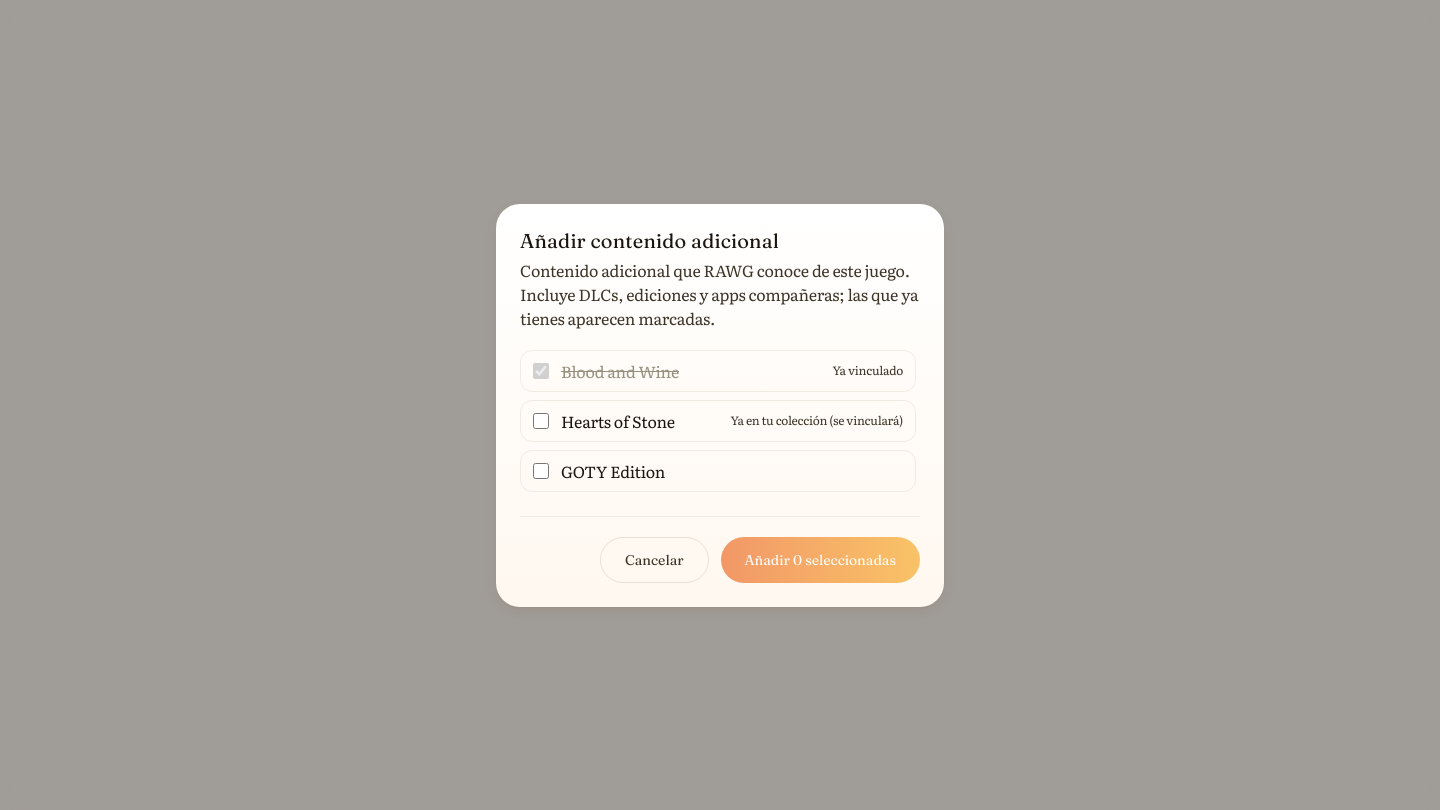
AddGameDlcsDialog › en completado exige la fecha de fin
Click the checkbox labelled "GOTY Edition" at (541, 470), box x1=533 y1=462 x2=549 y2=478
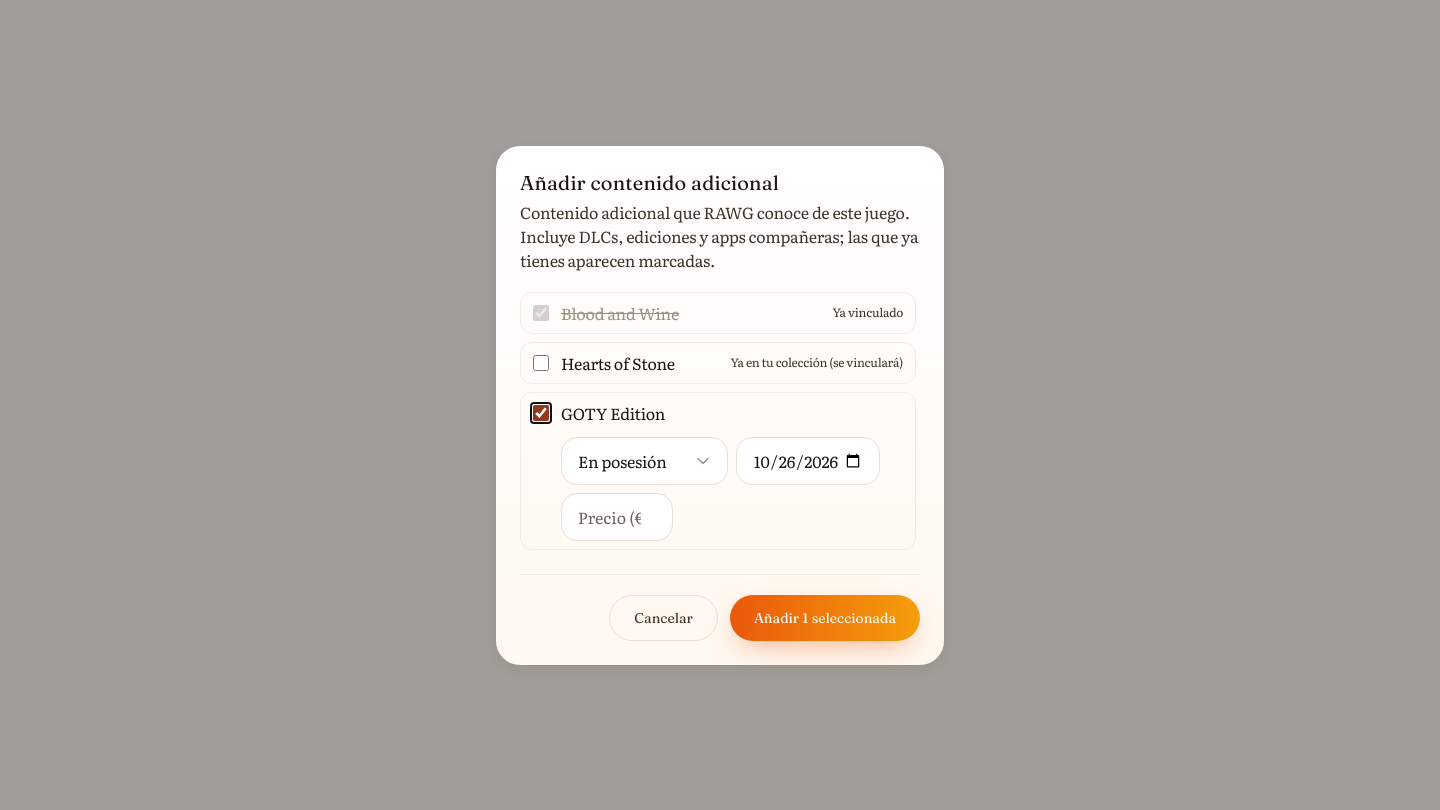
Select "Completado" in the dropdown named "Estado de GOTY Edition" at (644, 460), box x1=561 y1=436 x2=728 y2=484
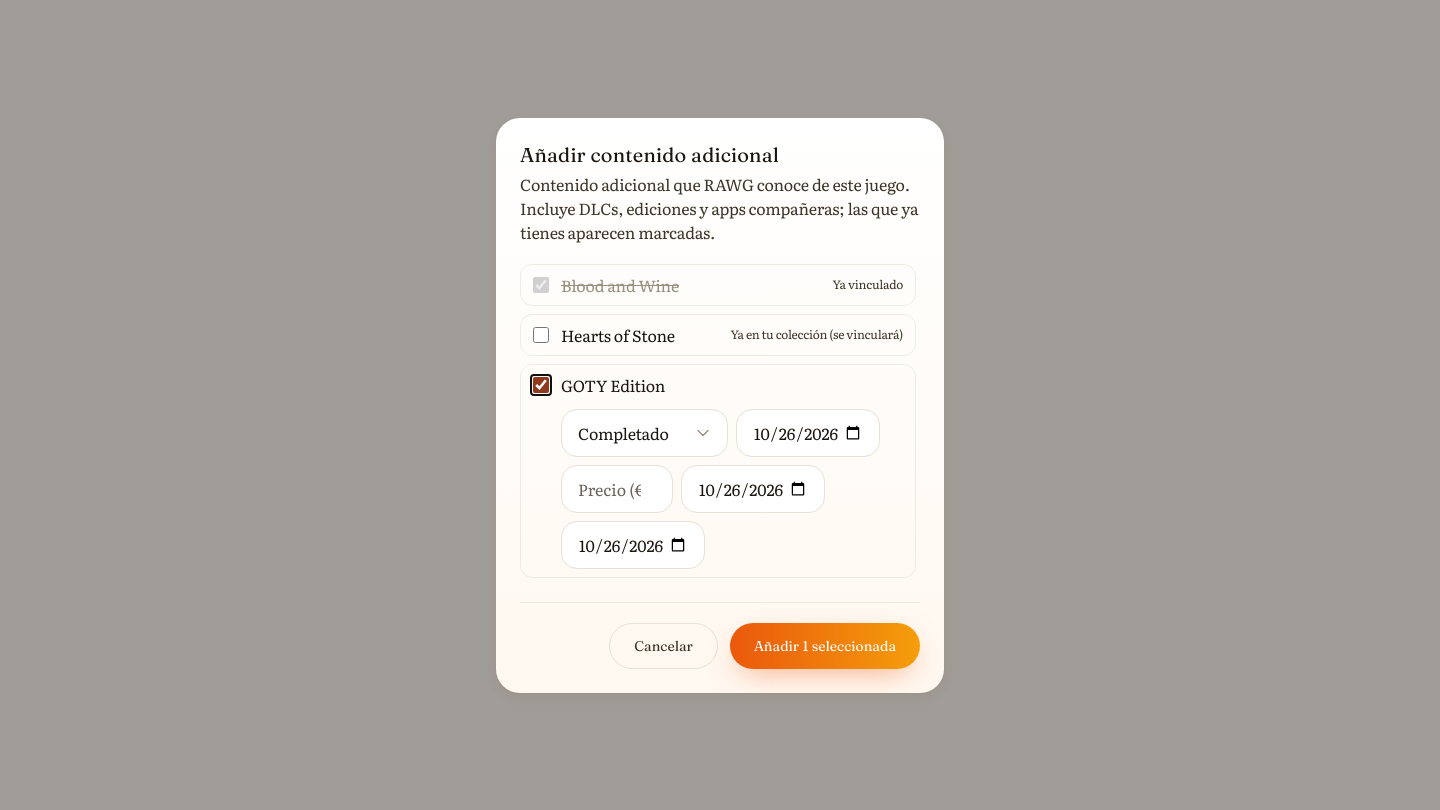
Type "10" into the number field named "Precio de GOTY Edition" at (617, 488), box x1=561 y1=464 x2=673 y2=512
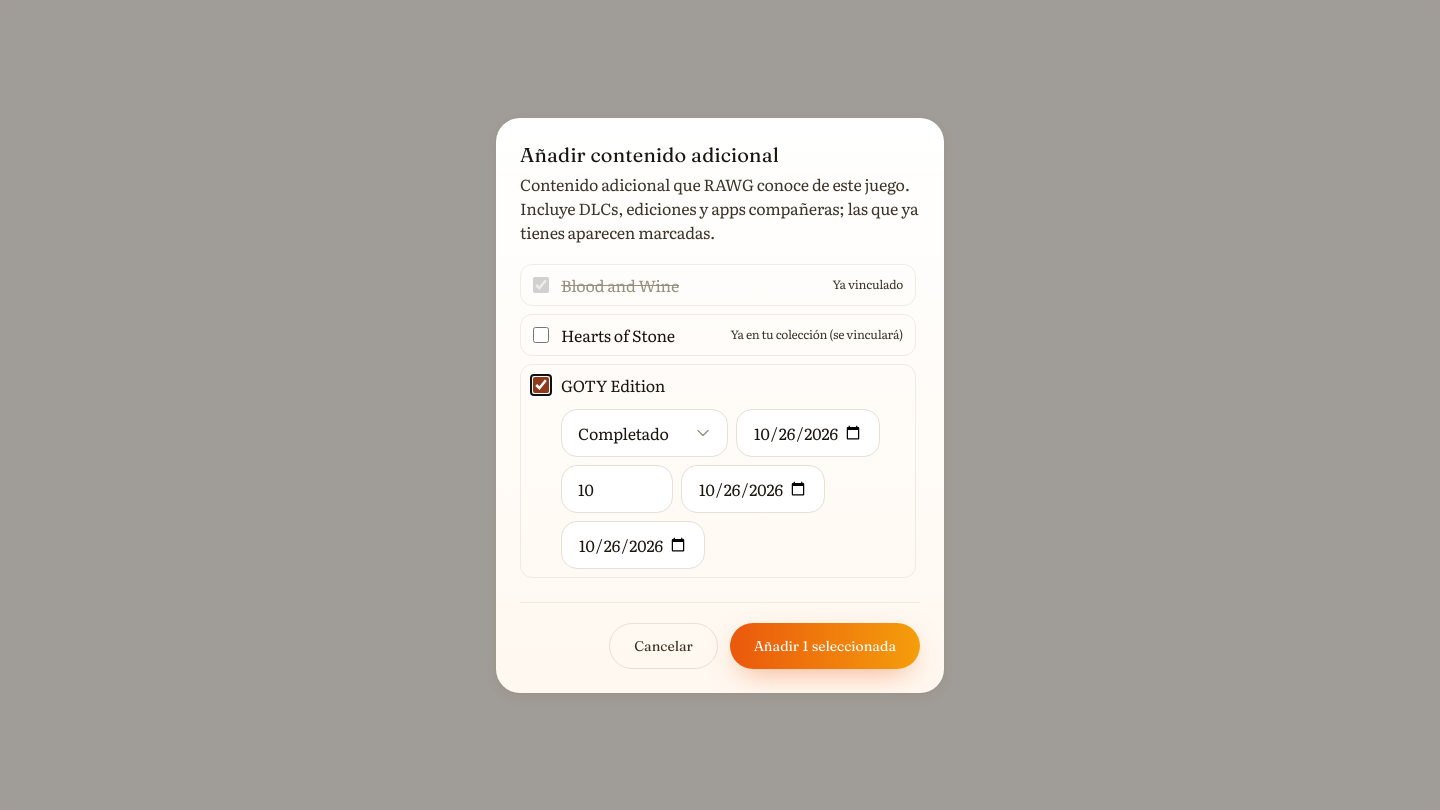
Clear the date field named "Fecha de fin de GOTY Edition" at (633, 544), box x1=561 y1=520 x2=705 y2=568
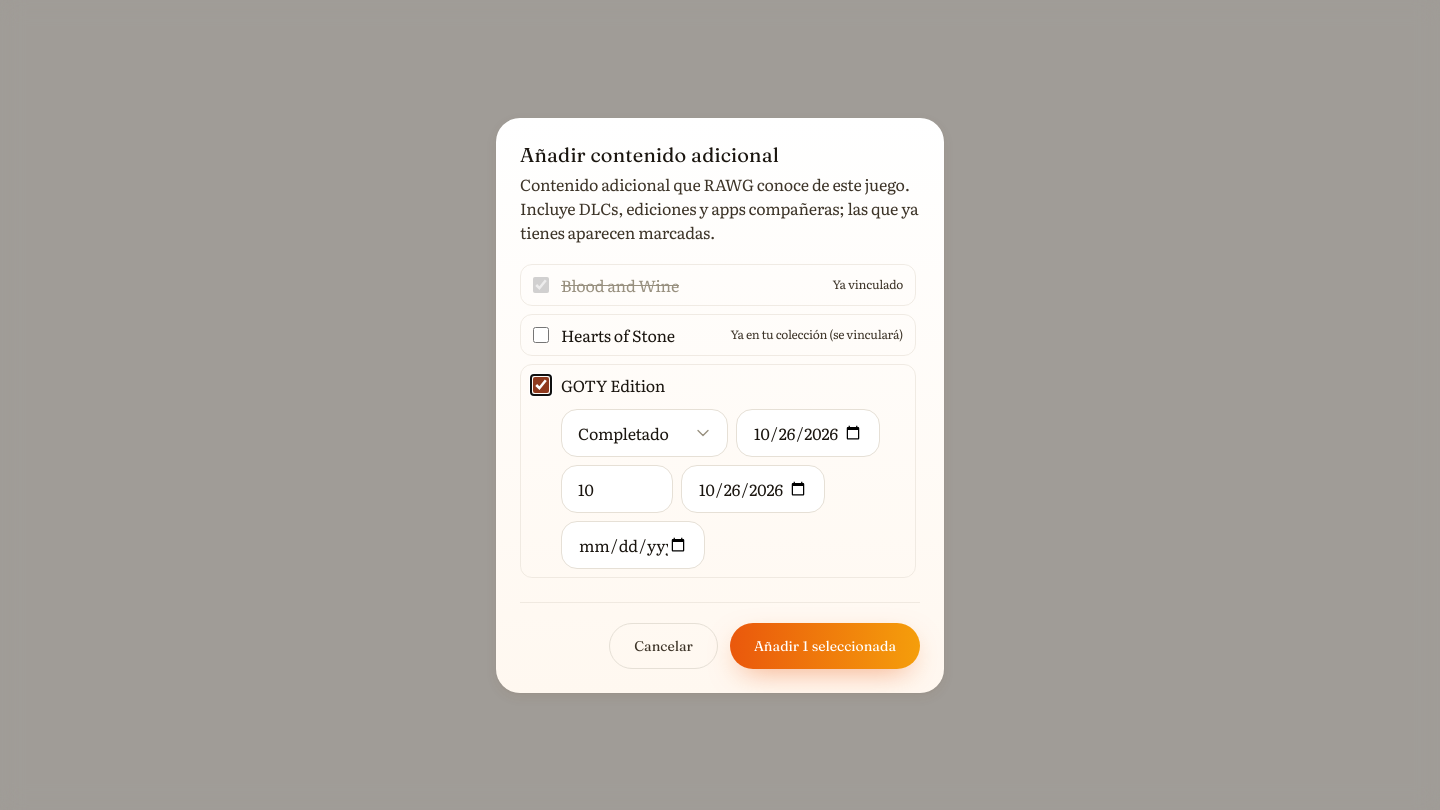
Click the button "Añadir 1 seleccionada" at (825, 646), box x1=730 y1=622 x2=920 y2=668
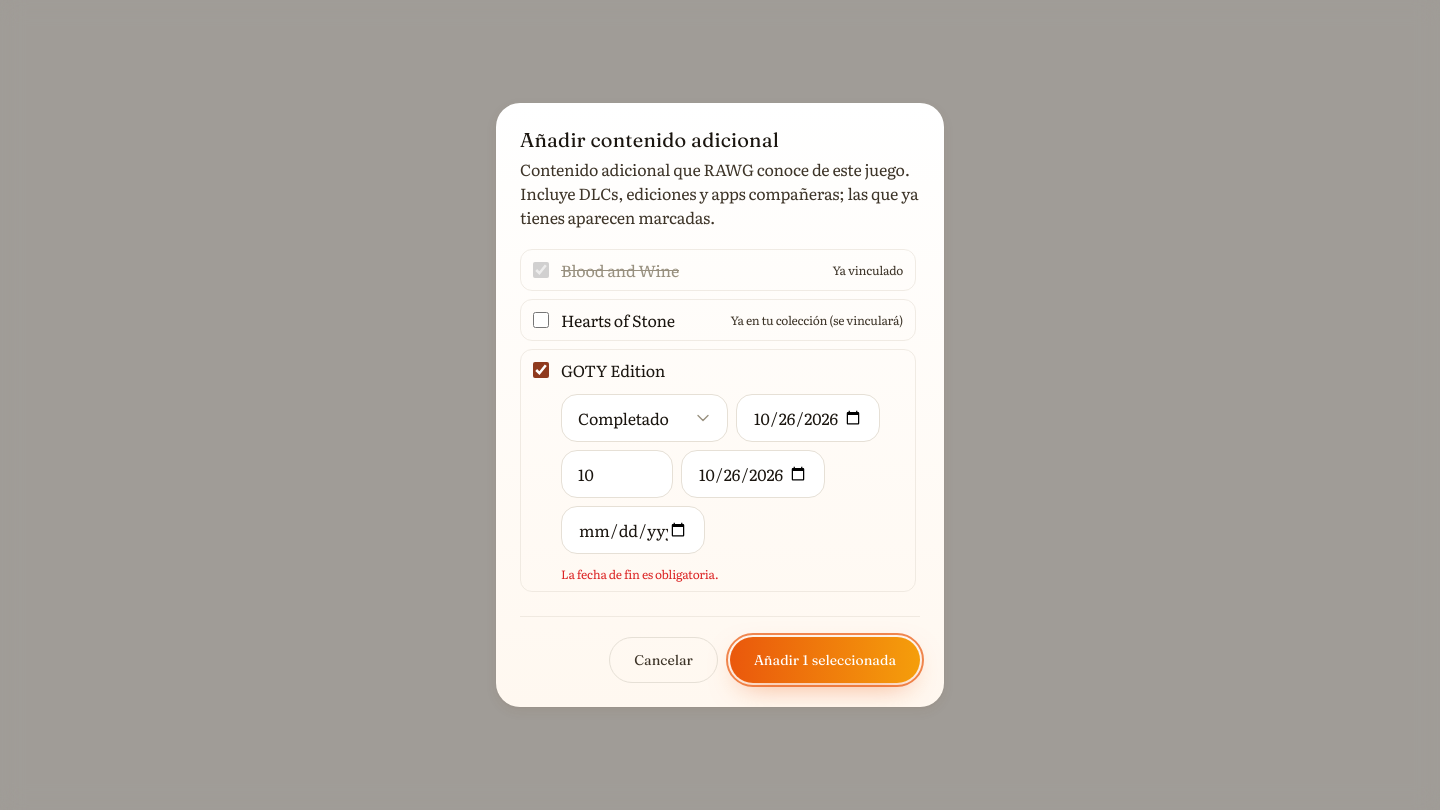
Now the message shows "La fecha de fin es obligatoria", box x1=561 y1=565 x2=718 y2=583
